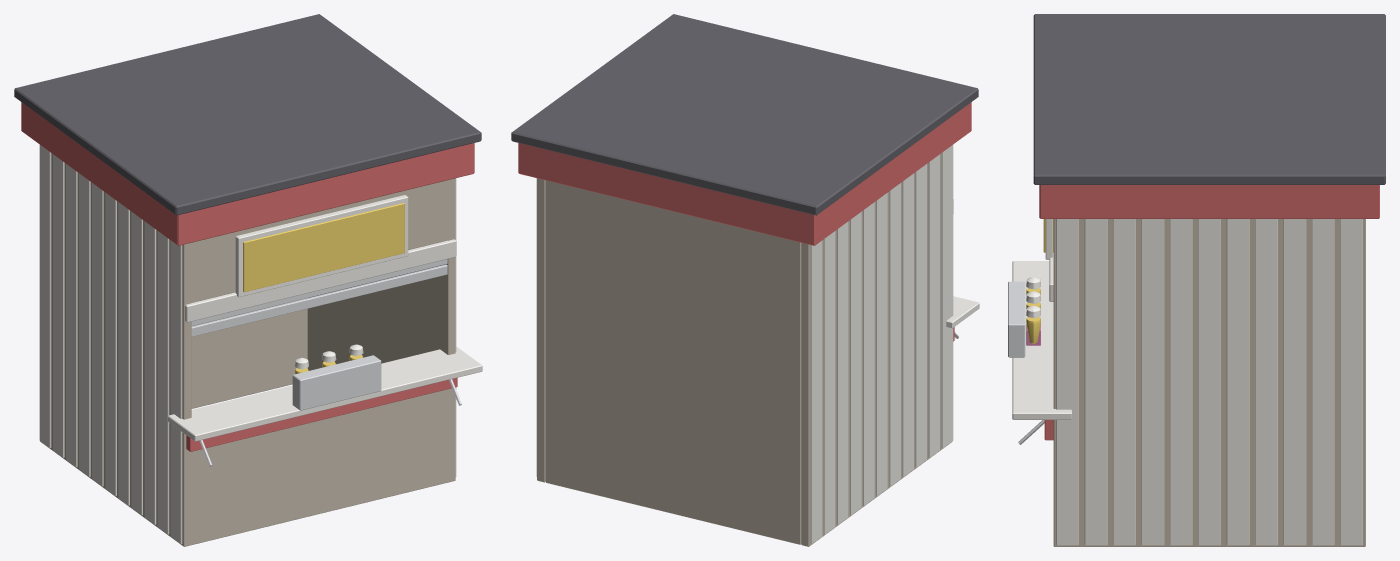
Rendered from ice_kiosk.glb.
3 views of the same model, side by side, from view 1: azimuth 30°, elevation 25°; view 2: azimuth 150°, elevation 25°; view 3: azimuth 270°, elevation 25° (orthographic). The views are drawn at different scales.
Parts seen in each view (by area): view 1: ice-cream-kiosk, shutter; view 2: ice-cream-kiosk; view 3: ice-cream-kiosk.
Part boxes in pixels (left/top/right/bottom): ice-cream-kiosk: left=14, top=14, right=482, bottom=546; shutter: left=191, top=259, right=447, bottom=336; ice-cream-kiosk: left=511, top=14, right=979, bottom=546; ice-cream-kiosk: left=1008, top=14, right=1385, bottom=546.
Bounding box in the file's own units: 2.7 × 2.96 × 2.66.
